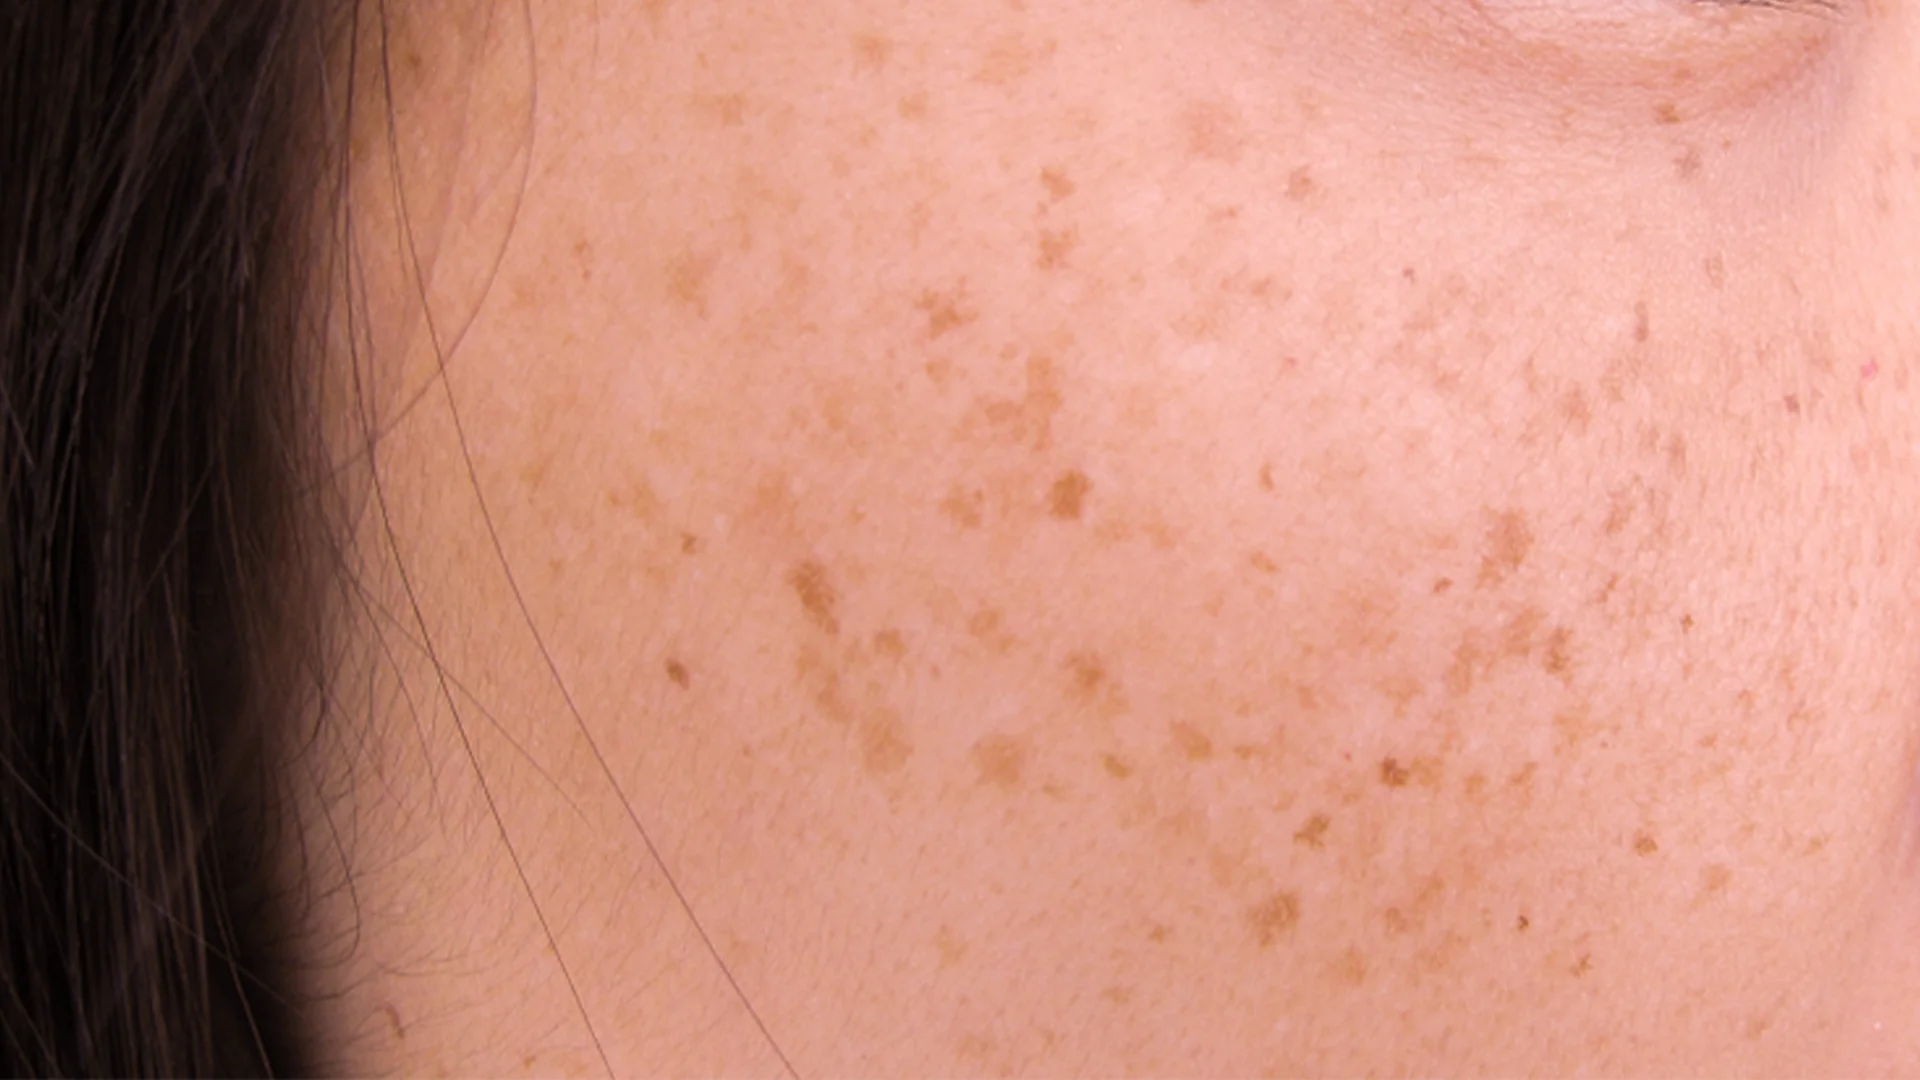Flek Hitam: (504, 42, 1852, 1028)
